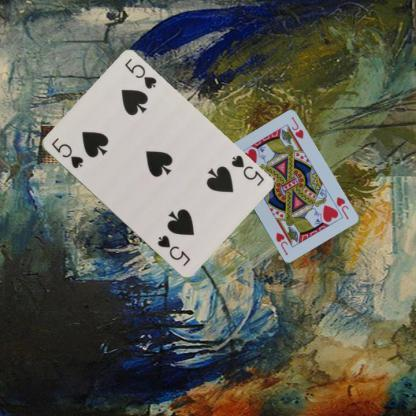5s: (228, 152, 265, 188), (48, 135, 84, 170)
Jh: (328, 194, 350, 221)
